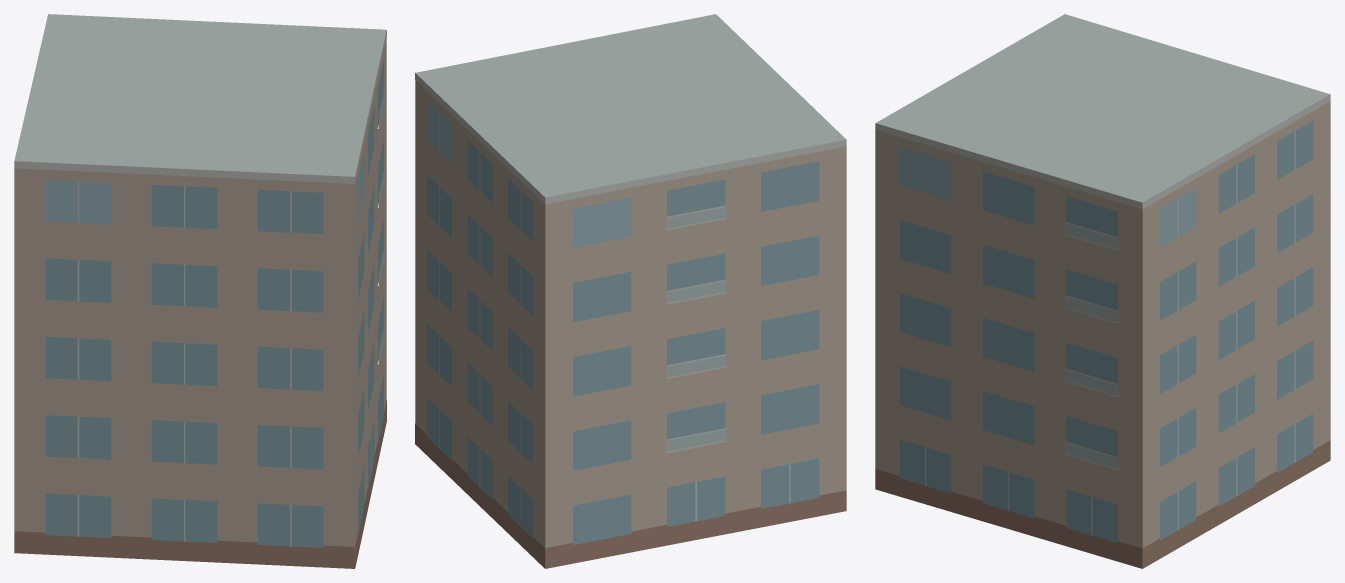
File: survey-upis-32890397.glb
3 views of the same model, side by side, from view 1: azimuth 30°, elevation 25°; view 2: azimuth 150°, elevation 25°; view 3: azimuth 270°, elevation 25° (orthographic). The views are drawn at different scales.
Parts seen in each view (by area): view 1: survey-upis-32890397.tmp; view 2: survey-upis-32890397.tmp; view 3: survey-upis-32890397.tmp.
Boxes of the visible parts, x1,y1,x2,y2 form: survey-upis-32890397.tmp: (14, 14, 386, 568); survey-upis-32890397.tmp: (415, 14, 846, 568); survey-upis-32890397.tmp: (875, 14, 1330, 568).
Size of the model in its own units: 14.82 by 13.4 by 15.1.
